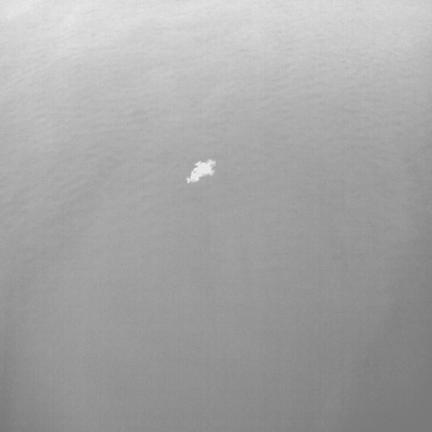flukeprints: (186, 159, 215, 183)
